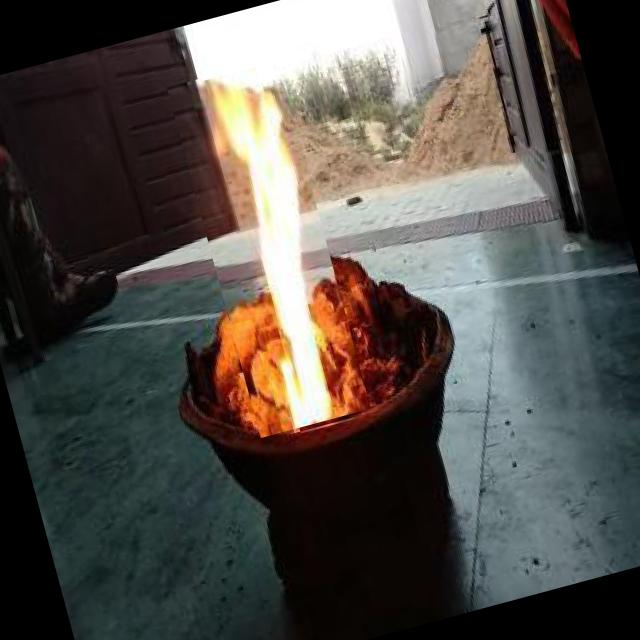fire: (167, 58, 370, 438)
